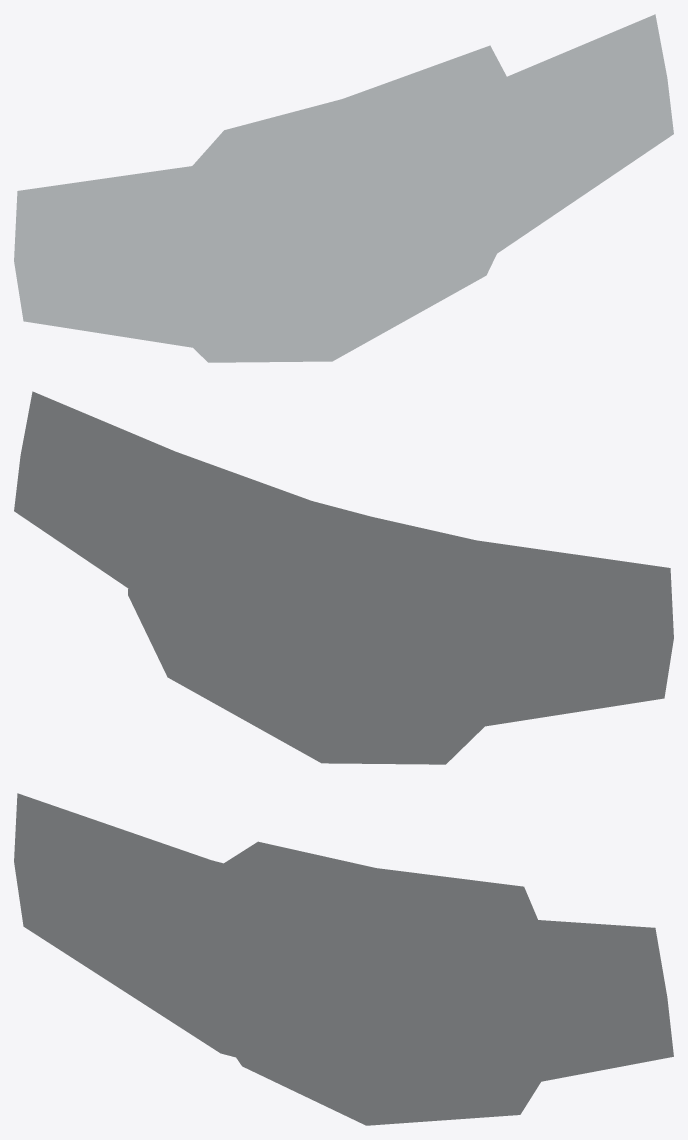
File: OZ_28_mi_cloud01A.glb
3 renders of one model, top to bottom at view 1: azimuth 30°, elevation 25°; view 2: azimuth 150°, elevation 25°; view 3: azimuth 330°, elevation 25°, orthographic.
Visible parts, largest first — view 1: OM_28_mi_cloud01A; view 2: OM_28_mi_cloud01A; view 3: OM_28_mi_cloud01A.
Boxes of the visible parts, <box> form: OM_28_mi_cloud01A: <box>14,14,673,362</box>; OM_28_mi_cloud01A: <box>14,391,673,764</box>; OM_28_mi_cloud01A: <box>14,793,673,1125</box>.
Size of the model in its own units: 195 by 80.43 by 8.66.
2 materials, 2 textured.
